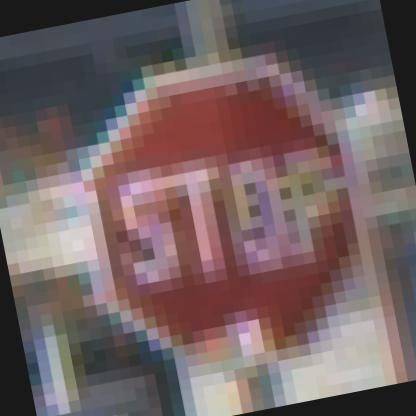stop: (54, 51, 406, 384)
